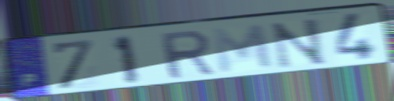1: (110, 34, 143, 87)
4: (334, 11, 378, 65)
7: (51, 38, 97, 93)
M: (210, 22, 277, 76)
N: (269, 16, 329, 71)
R: (157, 28, 218, 82)
